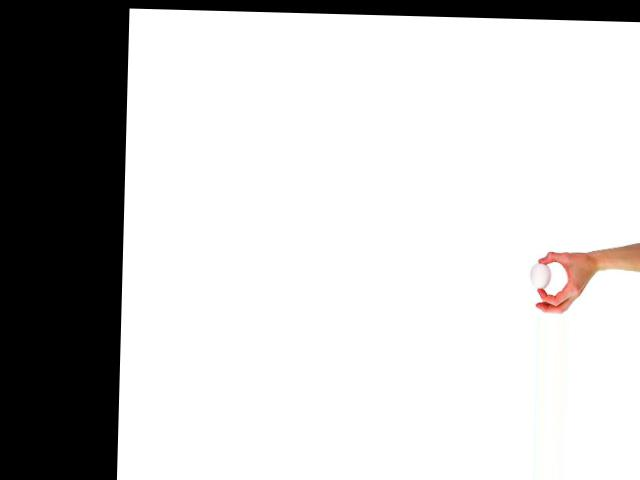egg: (529, 262, 551, 289)
